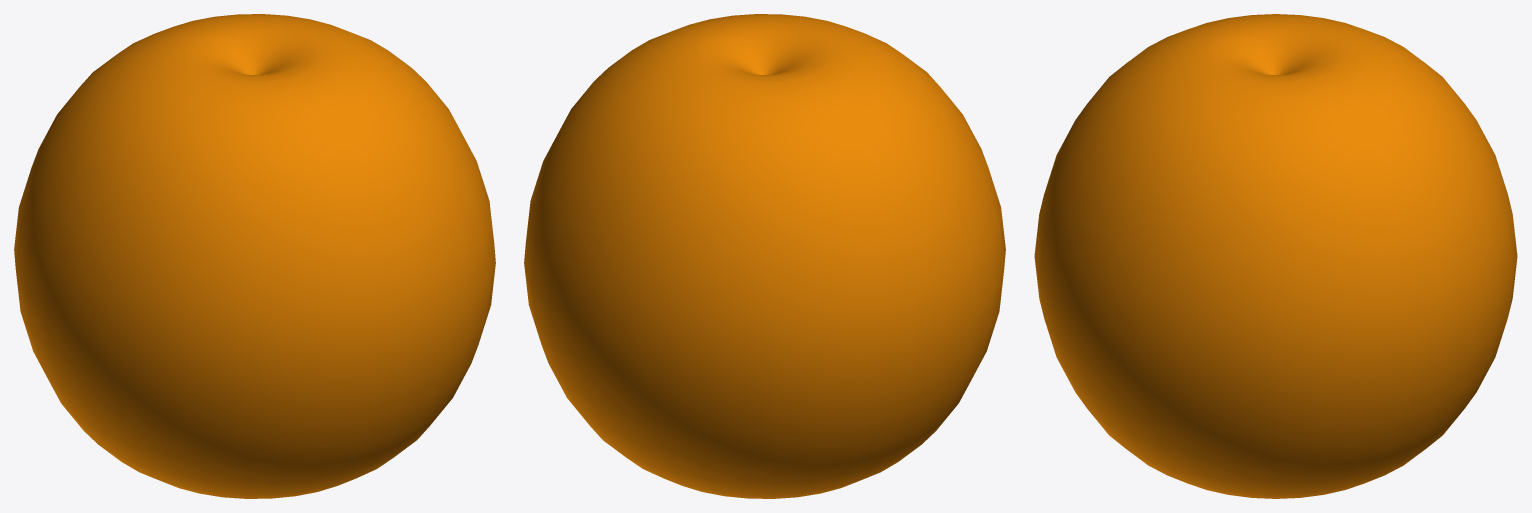
Rendered from Orange.fbx.
3 views of the same model, side by side, from view 1: azimuth 30°, elevation 25°; view 2: azimuth 150°, elevation 25°; view 3: azimuth 270°, elevation 25° (orthographic).
Visible parts, largest first — view 1: Orange2; view 2: Orange2; view 3: Orange2.
Part boxes in pixels (bbox=[...]): Orange2: bbox=[14, 14, 495, 498]; Orange2: bbox=[524, 14, 1005, 498]; Orange2: bbox=[1034, 14, 1517, 498].
Size of the model in its own units: 2.03 by 1.91 by 2.03.
